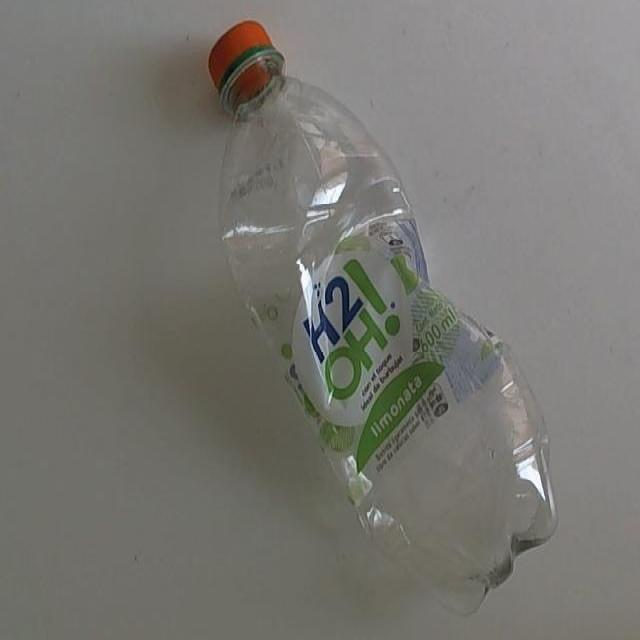defect: (204, 17, 561, 622)
